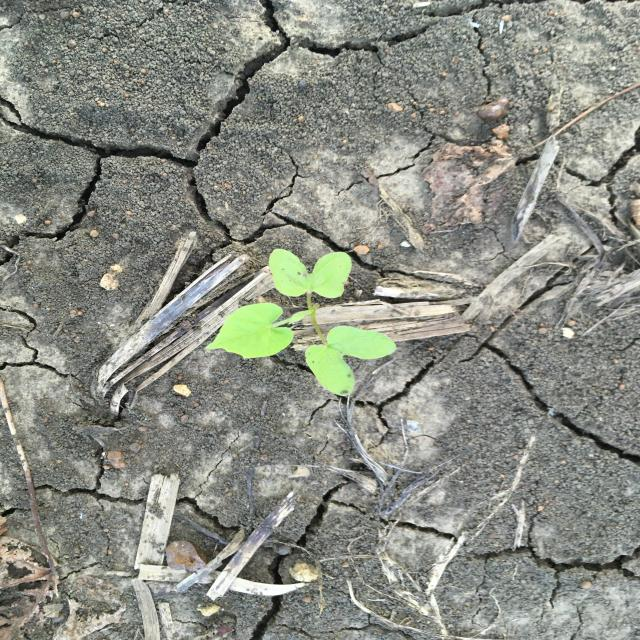MorningGlory: (204, 247, 398, 398)
